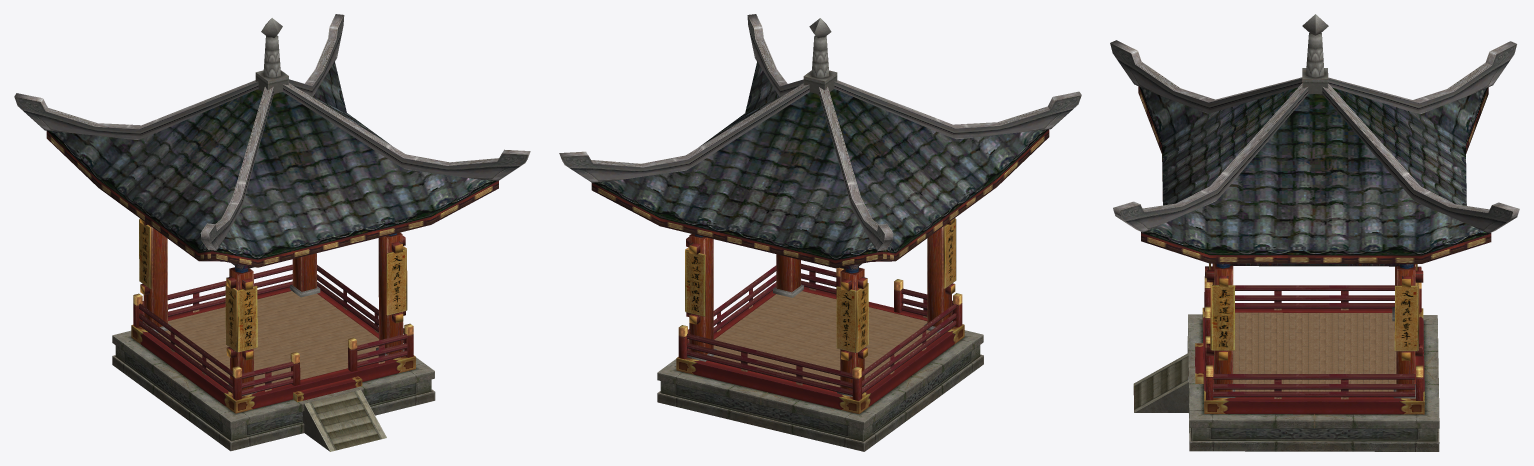
Rendered from SC_ZGFtingzi01.FBX.
3 views of the same model, side by side, from view 1: azimuth 30°, elevation 25°; view 2: azimuth 150°, elevation 25°; view 3: azimuth 270°, elevation 25° (orthographic). The views are drawn at different scales.
Parts seen in each view (by area): view 1: SC_ZGFtingzi01; view 2: SC_ZGFtingzi01; view 3: SC_ZGFtingzi01.
Boxes of the visible parts, x1,y1,x2,y2 form: SC_ZGFtingzi01: (14,14,530,451); SC_ZGFtingzi01: (559,14,1081,451); SC_ZGFtingzi01: (1110,14,1519,451).
Bounding box in the file's own units: 822 × 864 × 835.
